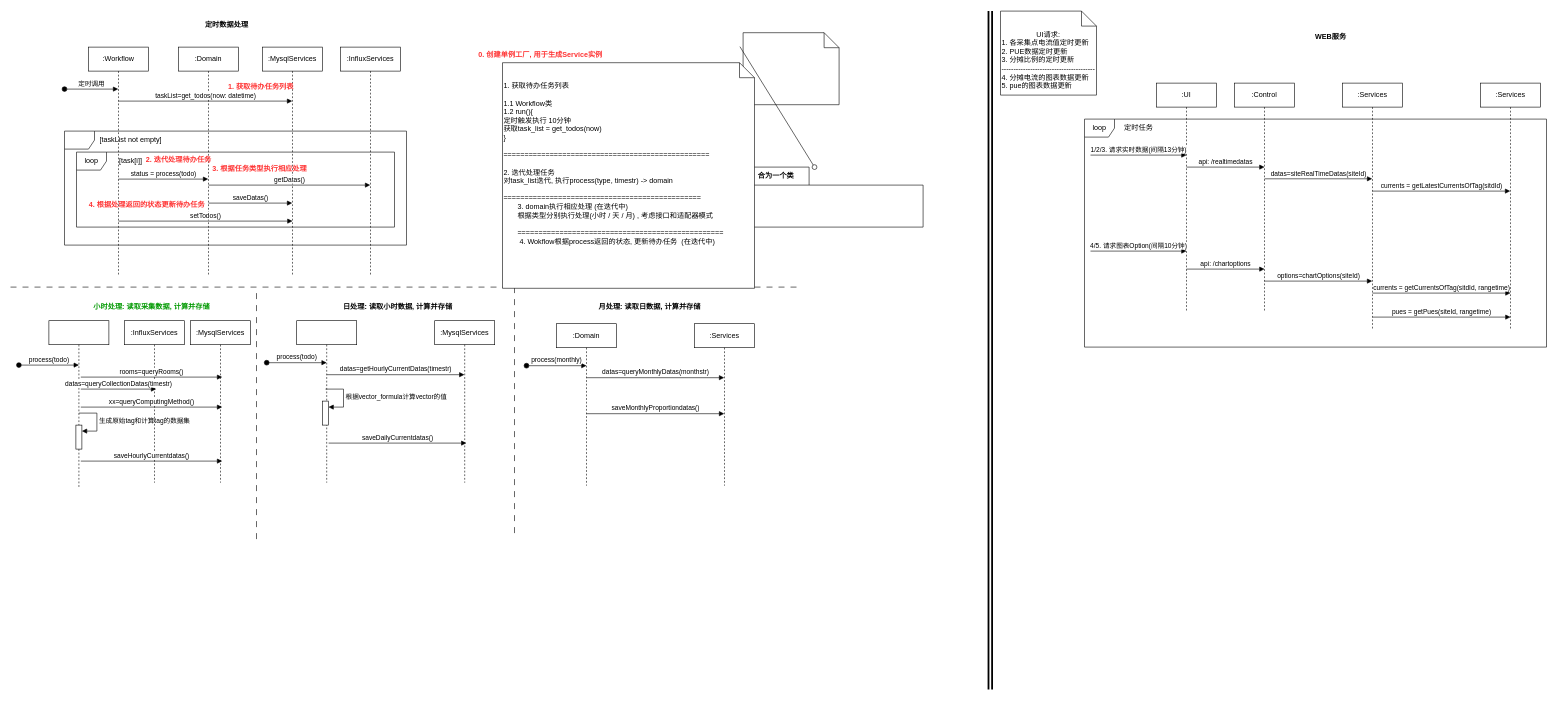
Some shapes in this 1557 by 701 pixel diagram are drawn without their labels. Each missing label, with the box of its shape:
:DailyProcess: (296, 320, 357, 483)
:HourlyProcess: (48, 320, 109, 489)
opt: (64, 130, 406, 245)
或者: todo()放在workflow中, process()放在Domain中 todo()通过持久化记录和读取要执行的待办任务: (742, 32, 839, 105)
